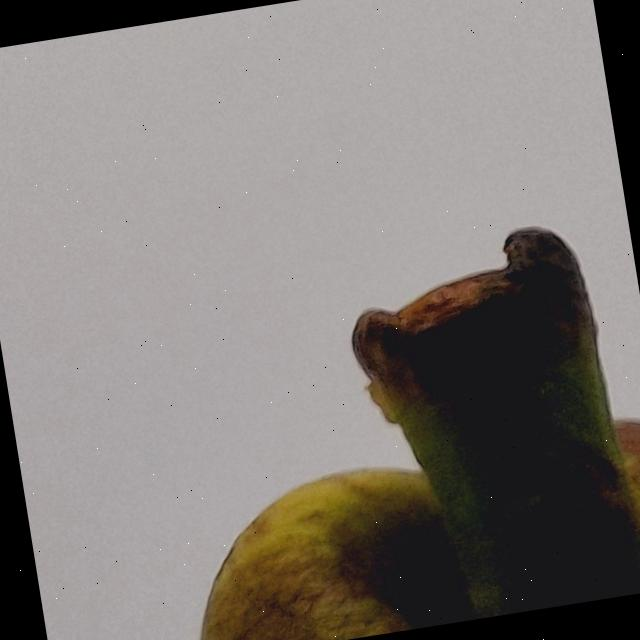mangosteen: (0, 161, 640, 640)
